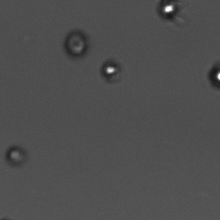Living Cell: (64, 30, 89, 56), (101, 59, 121, 79), (158, 1, 180, 19), (6, 146, 27, 163)
